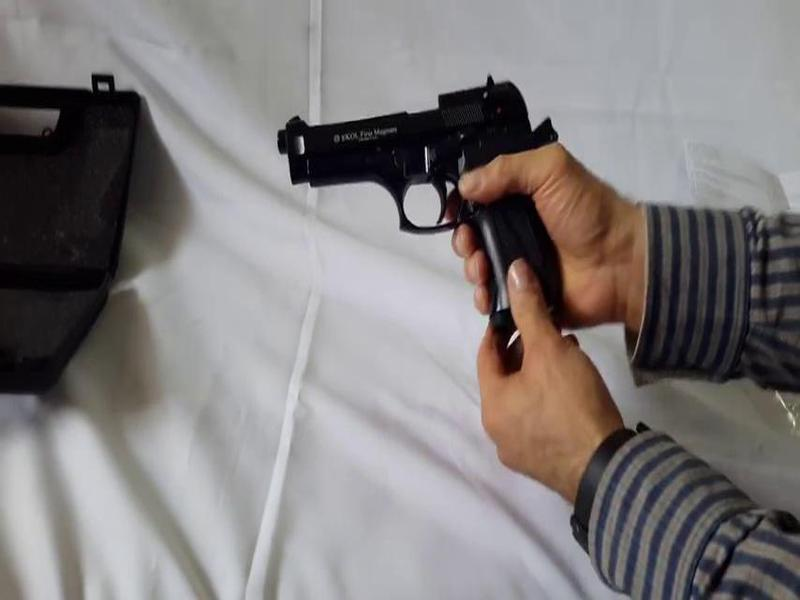Pistola: (259, 72, 585, 351)
